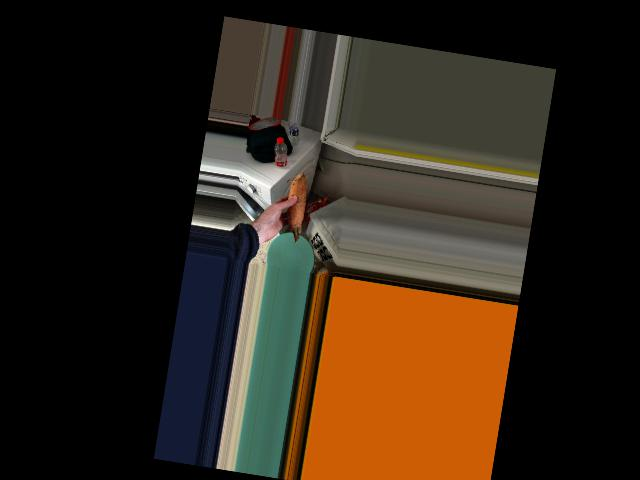sweet_potato: (279, 175, 310, 238)
